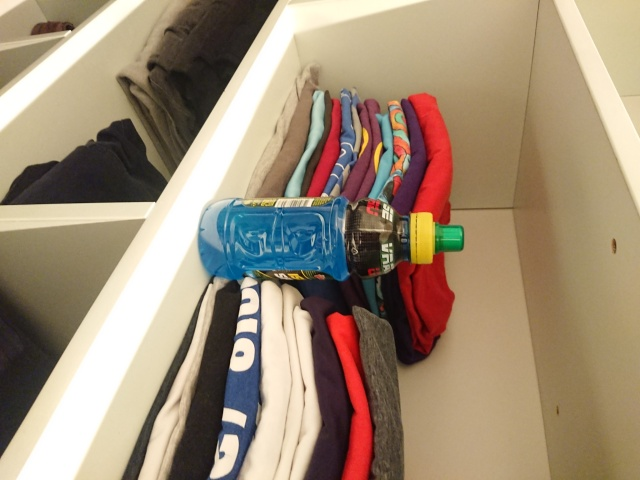Vindi Iso Sport Forest Strawberries 500mL: (195, 193, 467, 284)
